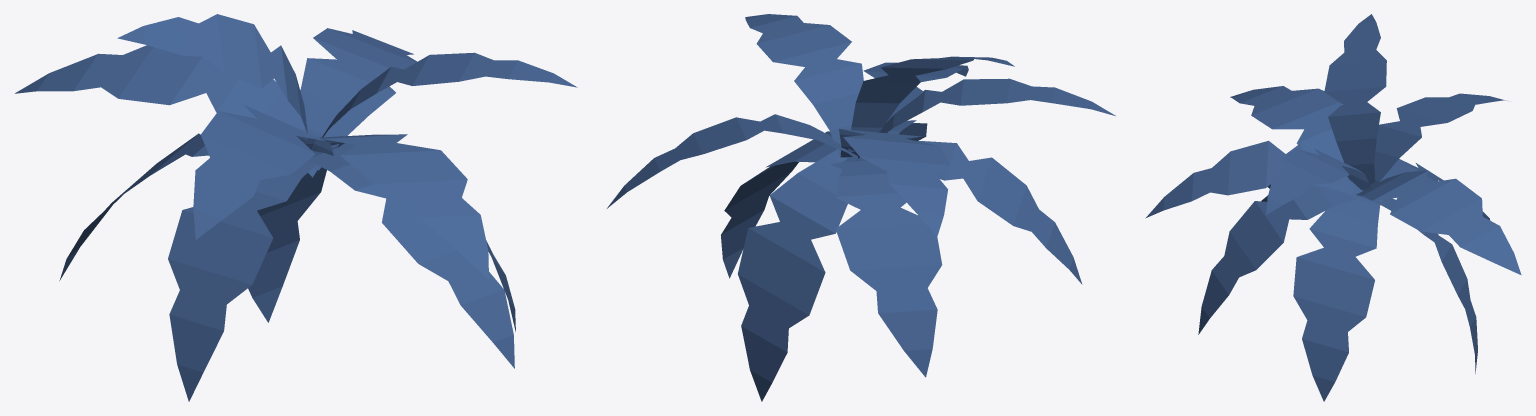
File: tree-winter-leaves-035.glb
The picture shows the model from 3 angles, left to right: view 1: azimuth 30°, elevation 25°; view 2: azimuth 150°, elevation 25°; view 3: azimuth 270°, elevation 25°; orthographic projection. The views are drawn at different scales.
Visible parts, largest first — view 1: Plane.052_175; view 2: Plane.052_175; view 3: Plane.052_175.
Part boxes in pixels (<box>): Plane.052_175: <box>15,14,577,401</box>; Plane.052_175: <box>607,14,1115,401</box>; Plane.052_175: <box>1145,14,1521,401</box>.
Size of the model in its own units: 1.43 by 1.33 by 1.59.
